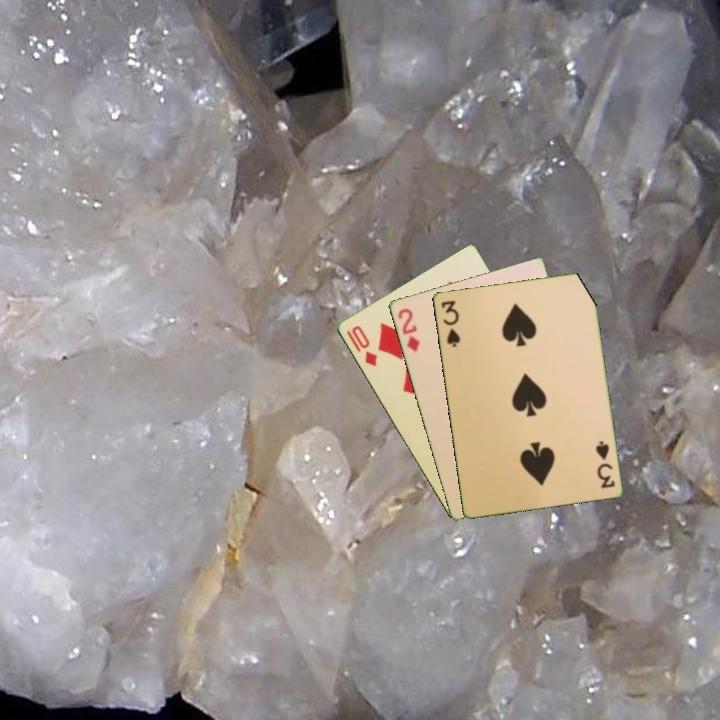10d: (348, 322, 380, 370)
2d: (394, 305, 422, 355)
3s: (437, 297, 463, 350), (592, 437, 617, 491)
